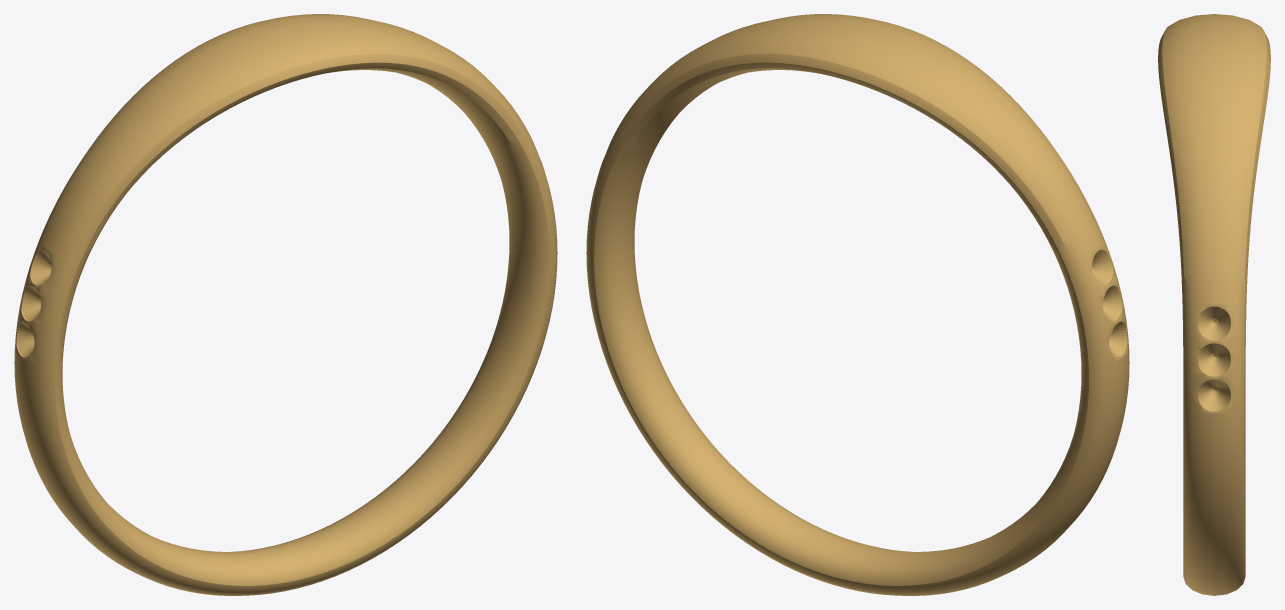
Rendered from reverse-tapered-micro-pave-multi.glb.
3 renders of one model, left to right at view 1: azimuth 30°, elevation 25°; view 2: azimuth 150°, elevation 25°; view 3: azimuth 270°, elevation 25°, orthographic. The views are drawn at different scales.
Parts seen in each view (by area): view 1: Band; view 2: Band; view 3: Band.
Boxes of the visible parts, x1,y1,x2,y2 form: Band: [14, 14, 557, 595]; Band: [586, 14, 1129, 595]; Band: [1158, 14, 1270, 595].
Size of the model in its own units: 19.6 by 19.6 by 3.8.
